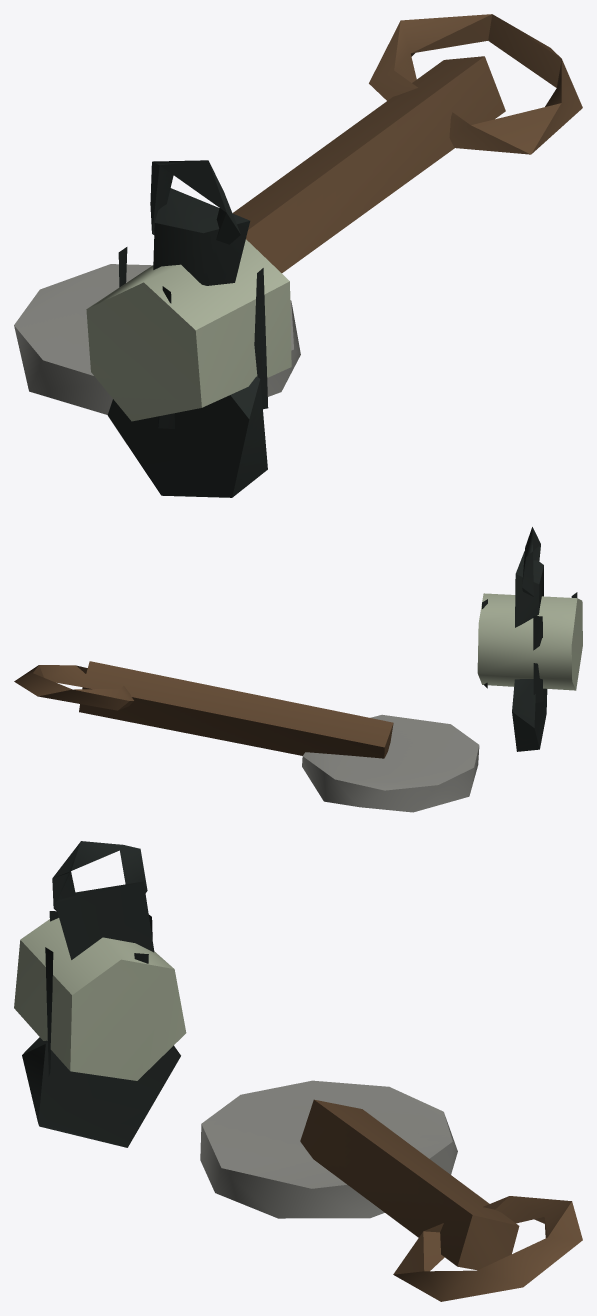
File: storm_lantern_c_lod2.glb
3 renders of one model, top to bottom at view 1: azimuth 30°, elevation 25°; view 2: azimuth 150°, elevation 25°; view 3: azimuth 270°, elevation 25°, orthographic. The views are drawn at different scales.
Visible parts, largest first — view 1: Surface.001; view 2: Surface.001; view 3: Surface.001.
Boxes of the visible parts, <box> form: Surface.001: <box>14,14,582,497</box>; Surface.001: <box>14,527,582,812</box>; Surface.001: <box>14,841,582,1301</box>.
Size of the model in its own units: 2.15 by 1.04 by 1.74.
